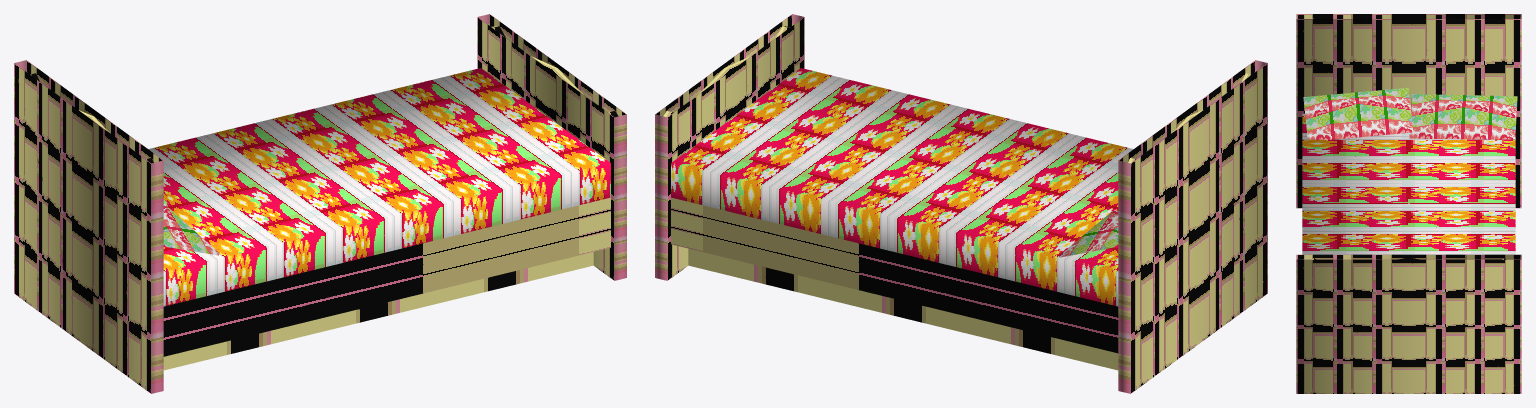
Rendered from 3666kg_ga_bed.gltf.
3 renders of one model, left to right at view 1: azimuth 30°, elevation 25°; view 2: azimuth 150°, elevation 25°; view 3: azimuth 270°, elevation 25°, orthographic. The views are drawn at different scales.
Parts seen in each view (by area): view 1: 3666kg_ga_bed; view 2: 3666kg_ga_bed; view 3: 3666kg_ga_bed.
Part boxes in pixels (x1,y1,x2,y2): 3666kg_ga_bed: [14, 14, 626, 393]; 3666kg_ga_bed: [655, 14, 1267, 393]; 3666kg_ga_bed: [1296, 14, 1521, 393].
Size of the model in its own units: 1.9 by 0.8801 by 0.9492.
Materials: 3 (3 with a texture image).
